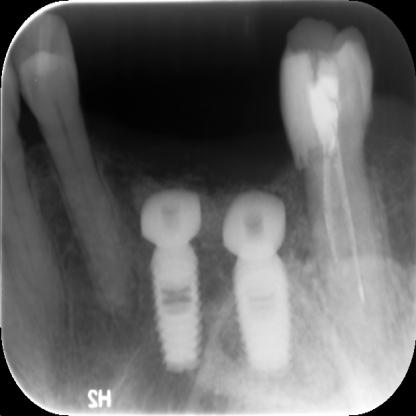Bicon: (146, 242, 208, 380), (232, 255, 294, 379)
